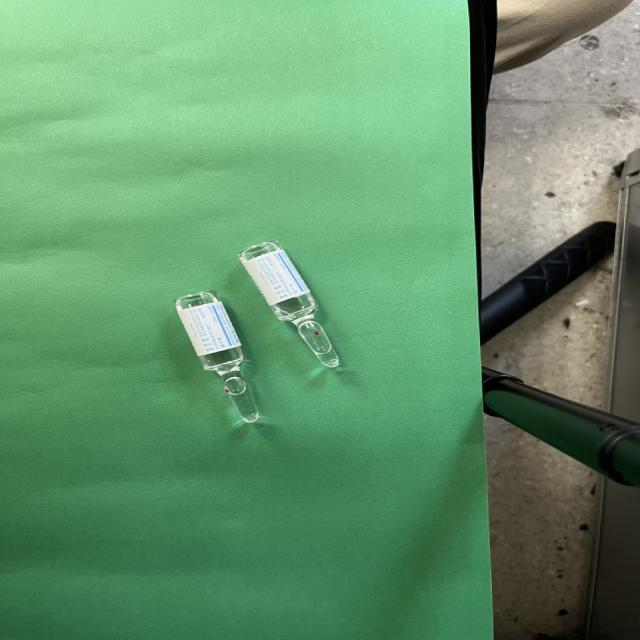Ampoules: (239, 242, 339, 368), (176, 292, 259, 423)
